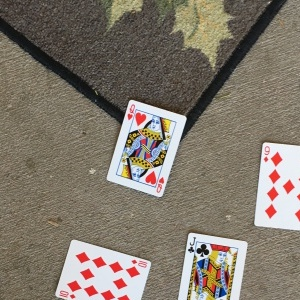card: (105, 99, 186, 201)
